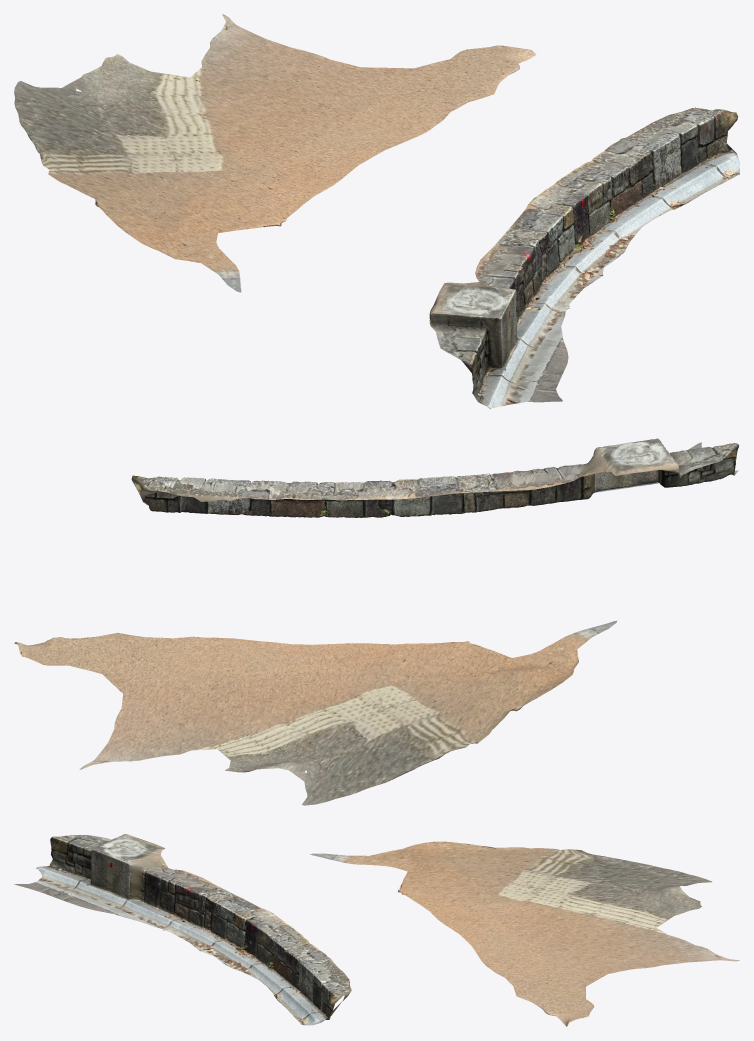
The picture shows the model from 3 angles, top to bottom: view 1: azimuth 30°, elevation 25°; view 2: azimuth 150°, elevation 25°; view 3: azimuth 270°, elevation 25°; orthographic projection. The views are drawn at different scales.
Parts seen in each view (by area): view 1: baked_mesh_503d5a52; view 2: baked_mesh_503d5a52; view 3: baked_mesh_503d5a52.
Boxes of the visible parts, <box> form: baked_mesh_503d5a52: <box>14,14,739,409</box>; baked_mesh_503d5a52: <box>14,438,738,805</box>; baked_mesh_503d5a52: <box>14,834,739,1026</box>.
Bounding box in the file's own units: 0.6072 × 0.0774 × 0.9887.
1 material, 1 textured.
